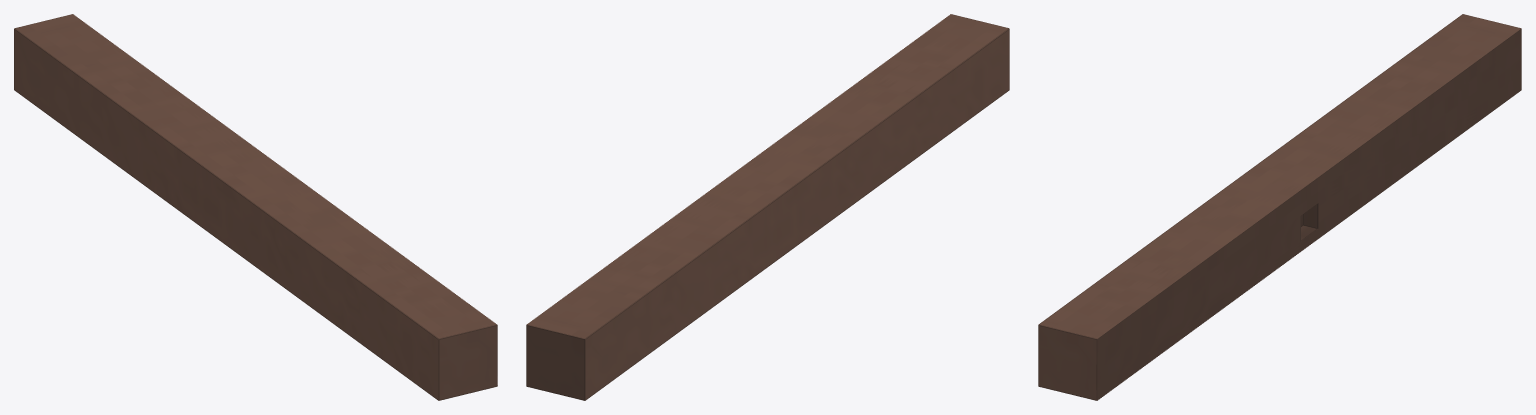
3 renders of one model, left to right at view 1: azimuth 30°, elevation 25°; view 2: azimuth 150°, elevation 25°; view 3: azimuth 330°, elevation 25°, orthographic.
Visible parts, largest first — view 1: part-a; view 2: part-a; view 3: part-a.
Boxes of the visible parts, left/top/right/bottom form: part-a: left=14, top=14, right=497, bottom=400; part-a: left=526, top=14, right=1009, bottom=400; part-a: left=1038, top=14, right=1521, bottom=400.
Size of the model in its own units: 0.1209 by 0.1208 by 1.5.
